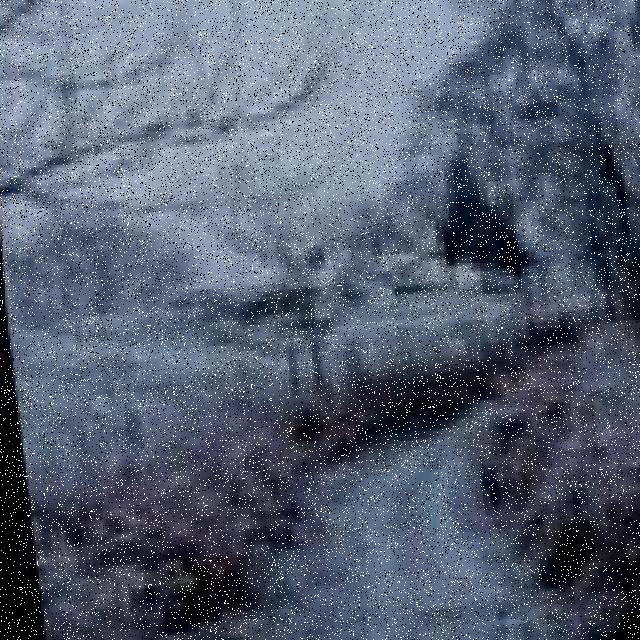ice-road: (271, 397, 615, 640)
